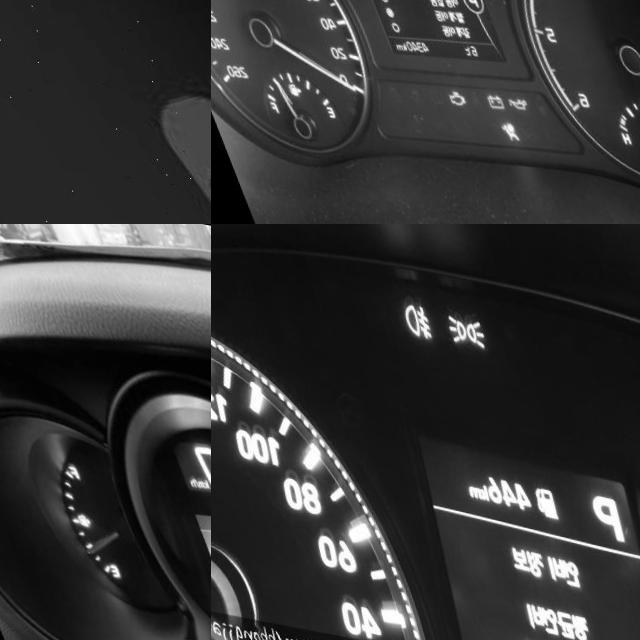FrontFogLight: (390, 288, 421, 328)
SideLamp: (433, 299, 476, 334)
